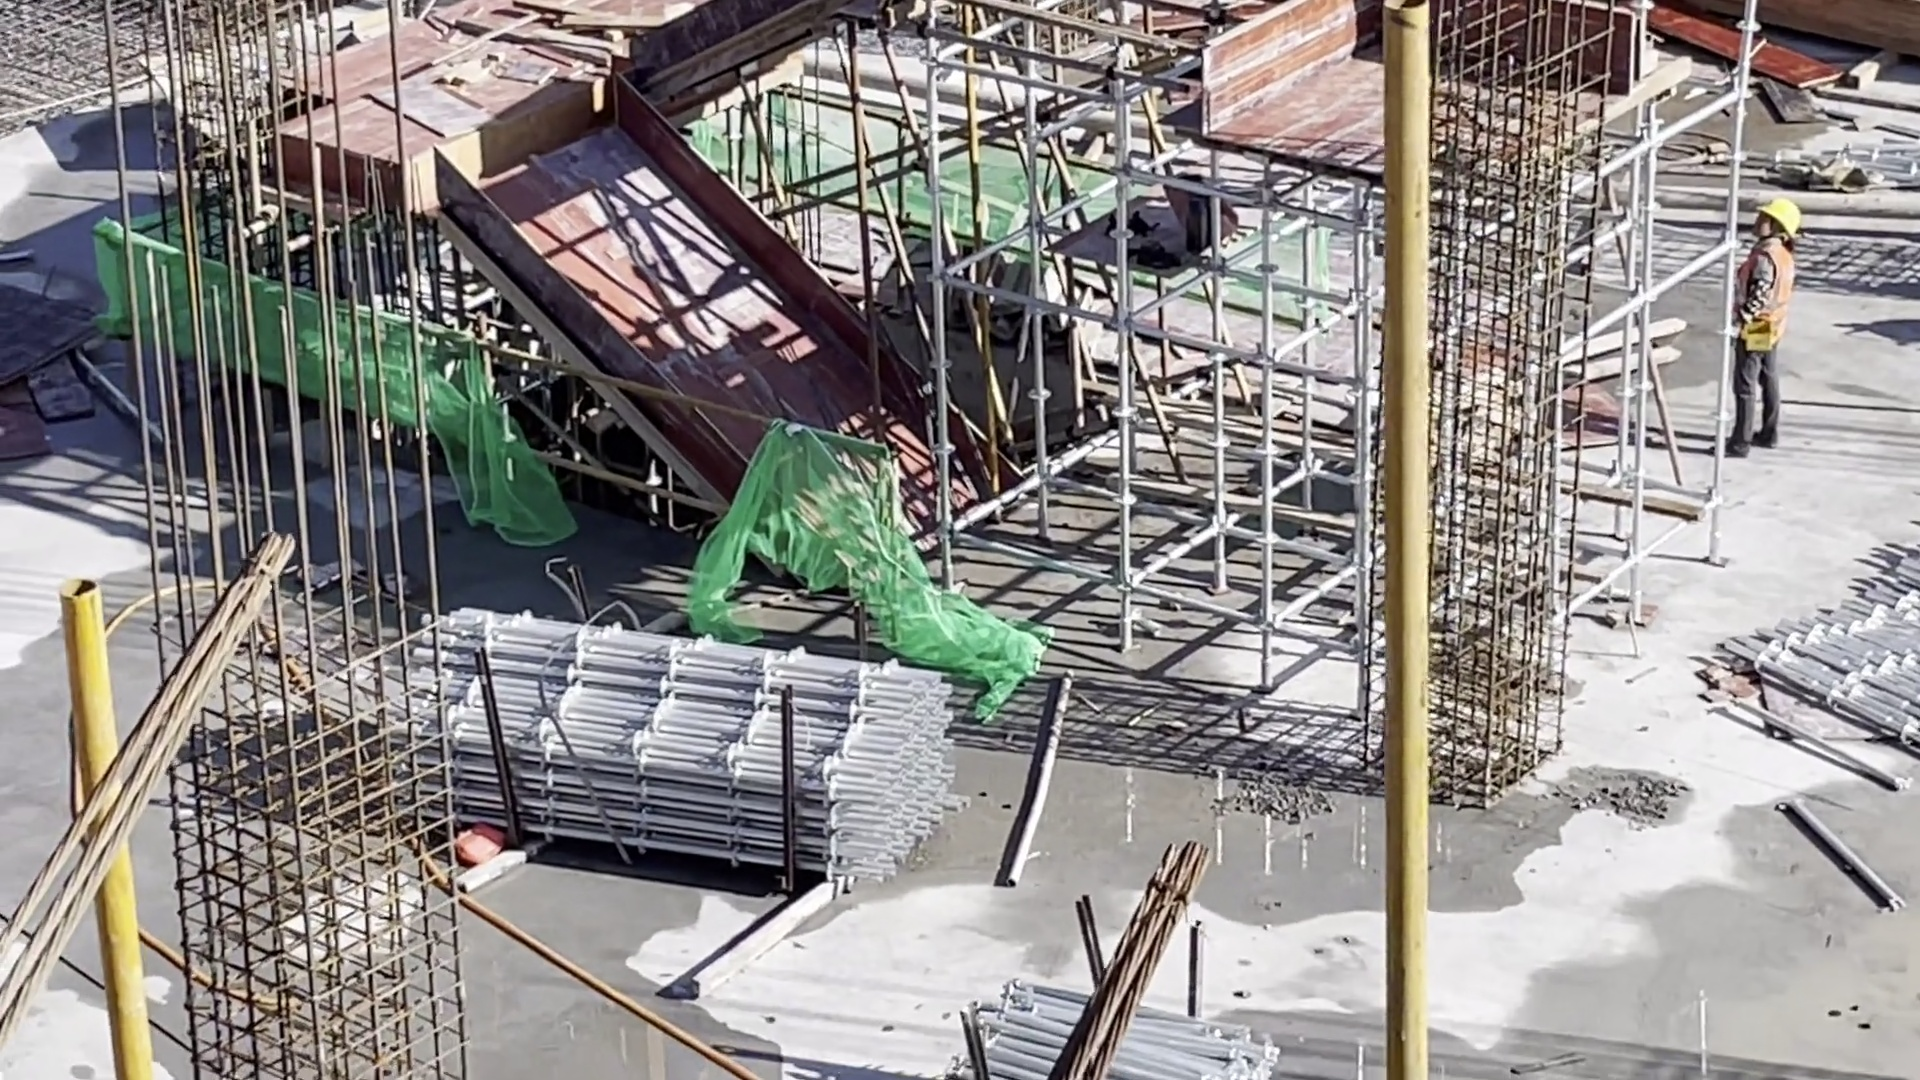helmet: (1752, 197, 1800, 235)
person: (1729, 194, 1795, 452)
scaffold: (400, 607, 970, 889), (1725, 538, 1920, 755), (943, 975, 1275, 1080)
vest: (1737, 238, 1794, 346)
